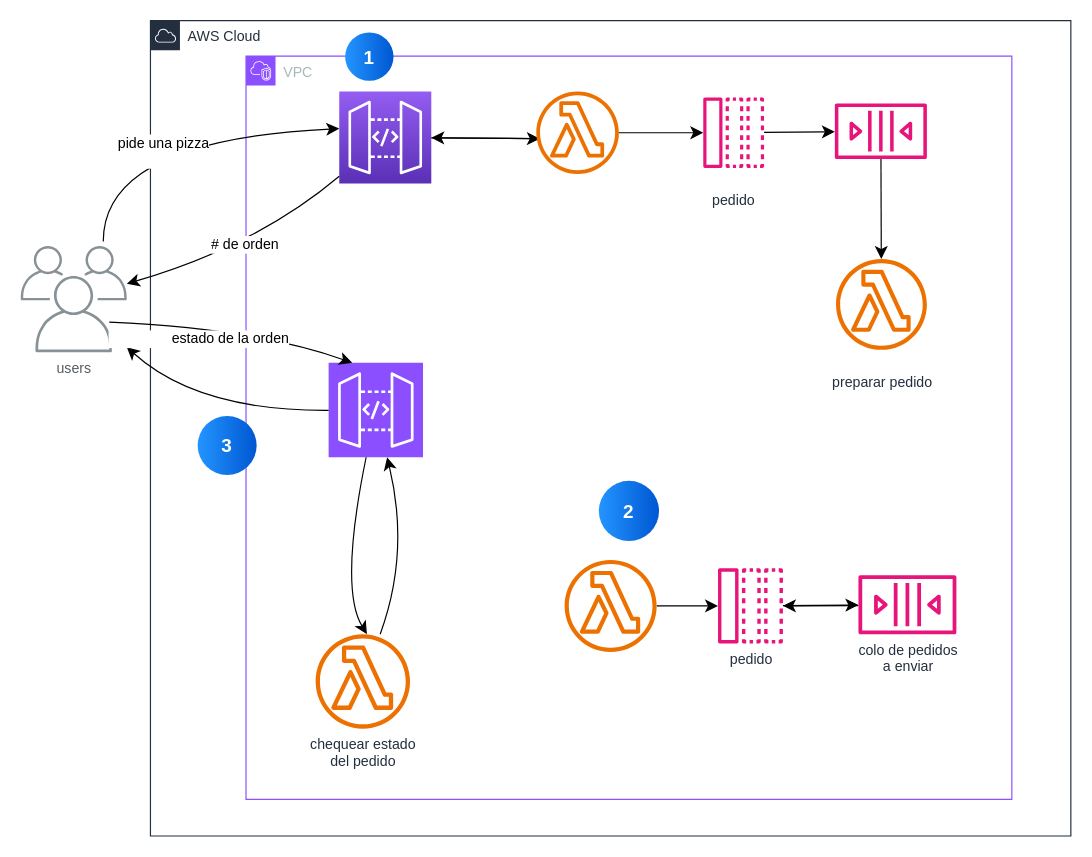
Some shapes in this 1092 by 857 pixel diagram are drawn without their labels. Each missing label, with the centre of its shape:
"Cola de pedidos pendientes" belongs at [880,130].
"crear nuevo pedido" belongs at [577,132].
"enviar pedido" belongs at [610,605].
"GET /order/{orderId }" belongs at [375,409].
"POST/order" belongs at [384,136].
